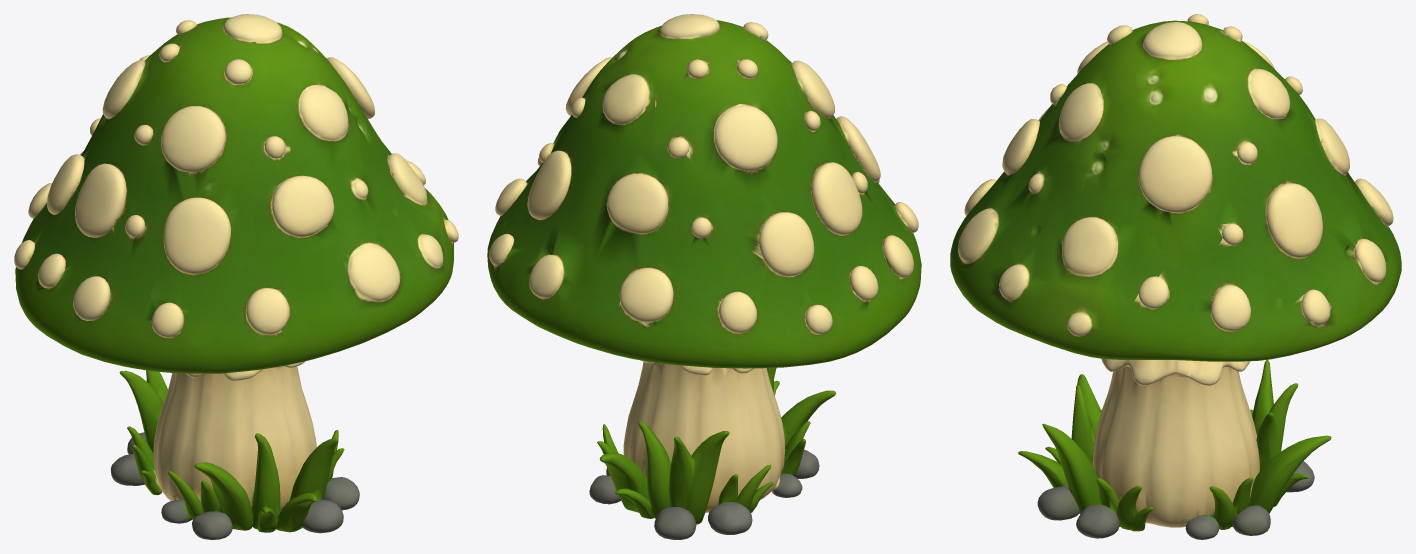
Rendered from shroom_green.glb.
3 renders of one model, left to right at view 1: azimuth 30°, elevation 25°; view 2: azimuth 150°, elevation 25°; view 3: azimuth 270°, elevation 25°, orthographic. The views are drawn at different scales.
Parts seen in each view (by area): view 1: tripo_node_7c0b42de-13fe-4886-a690-863d87efb3e1; view 2: tripo_node_7c0b42de-13fe-4886-a690-863d87efb3e1; view 3: tripo_node_7c0b42de-13fe-4886-a690-863d87efb3e1.
Part boxes in pixels (<box>): tripo_node_7c0b42de-13fe-4886-a690-863d87efb3e1: <box>14,14,458,539</box>; tripo_node_7c0b42de-13fe-4886-a690-863d87efb3e1: <box>487,14,921,539</box>; tripo_node_7c0b42de-13fe-4886-a690-863d87efb3e1: <box>950,14,1401,539</box>.
Bounding box in the file's own units: 1.27 × 1.5 × 1.29.
Materials: 1 (1 with a texture image).
